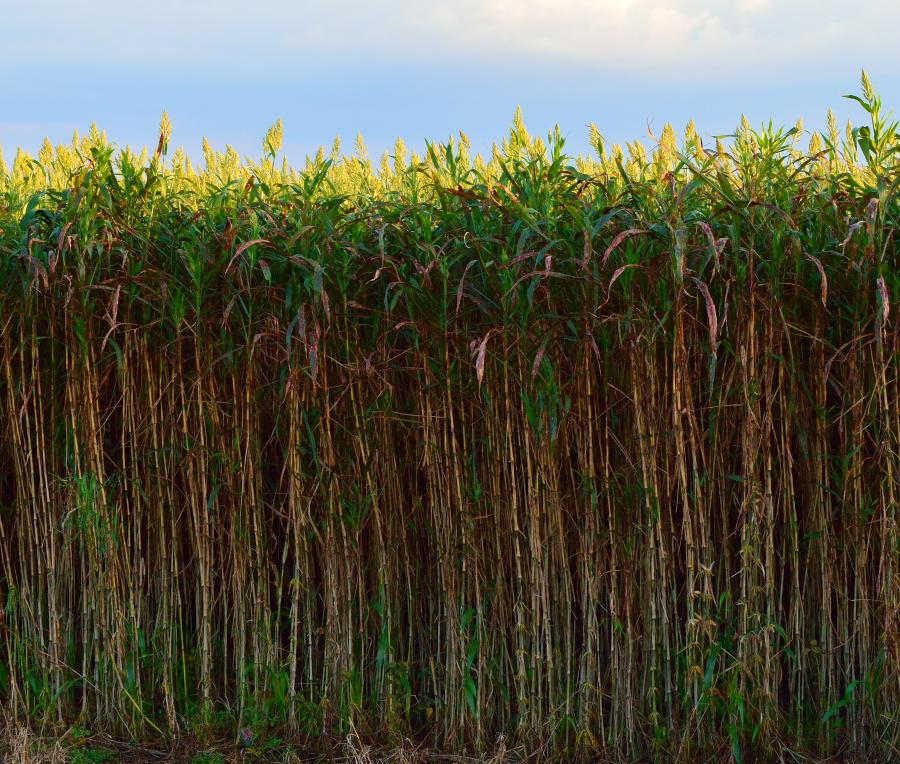sugarcane: (1, 68, 898, 737)
